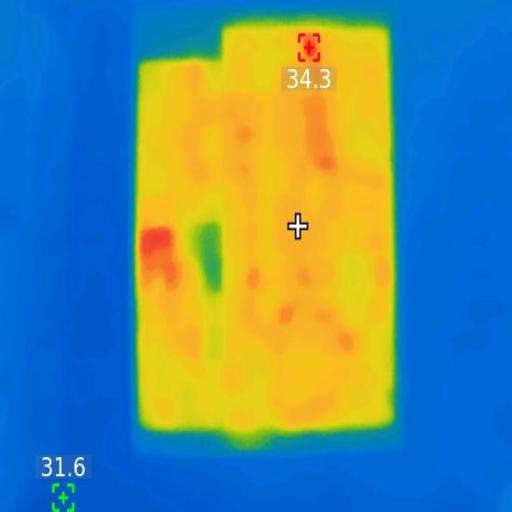hotspot: (137, 226, 186, 294), (293, 32, 329, 64), (318, 149, 342, 178), (236, 128, 260, 148), (280, 304, 300, 326), (247, 264, 262, 291), (338, 338, 358, 355)
